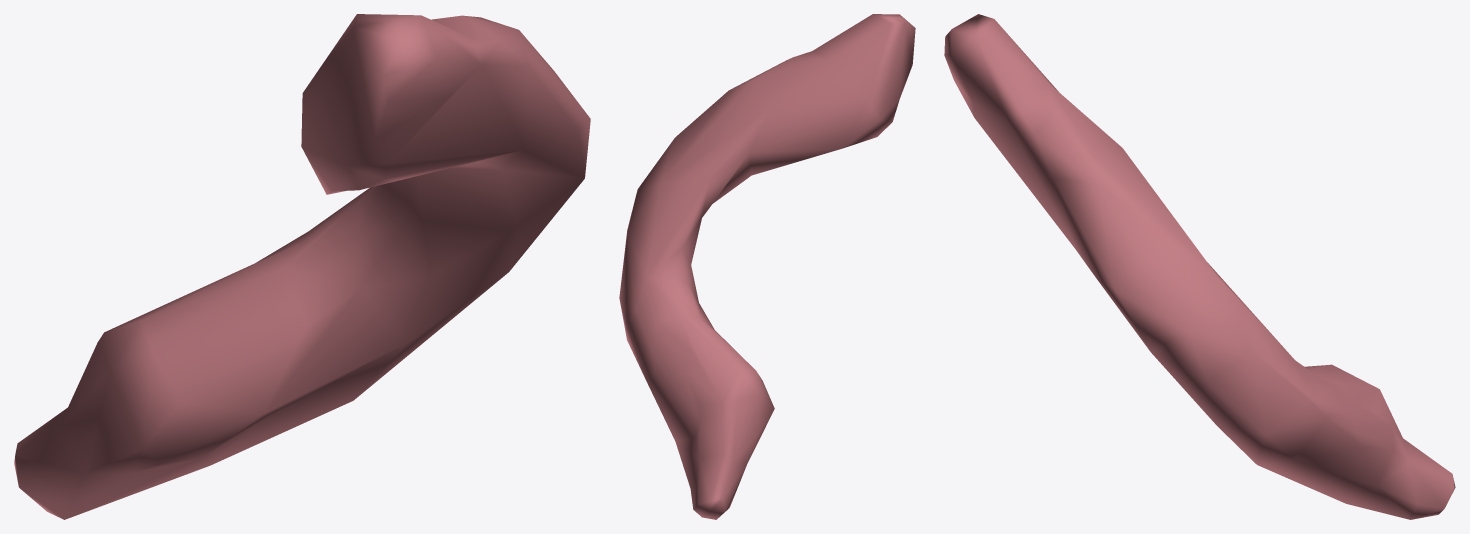
3 views of the same model, side by side, from view 1: azimuth 30°, elevation 25°; view 2: azimuth 150°, elevation 25°; view 3: azimuth 270°, elevation 25° (orthographic). The views are drawn at different scales.
Visible parts, largest first — view 1: 左侧肛门外括约肌; view 2: 左侧肛门外括约肌; view 3: 左侧肛门外括约肌.
Boxes of the visible parts, bbox=[...] form: 左侧肛门外括约肌: bbox=[14, 14, 590, 519]; 左侧肛门外括约肌: bbox=[619, 14, 915, 519]; 左侧肛门外括约肌: bbox=[944, 14, 1455, 519].
Size of the model in its own units: 0.0177 by 0.0336 by 0.0318.
